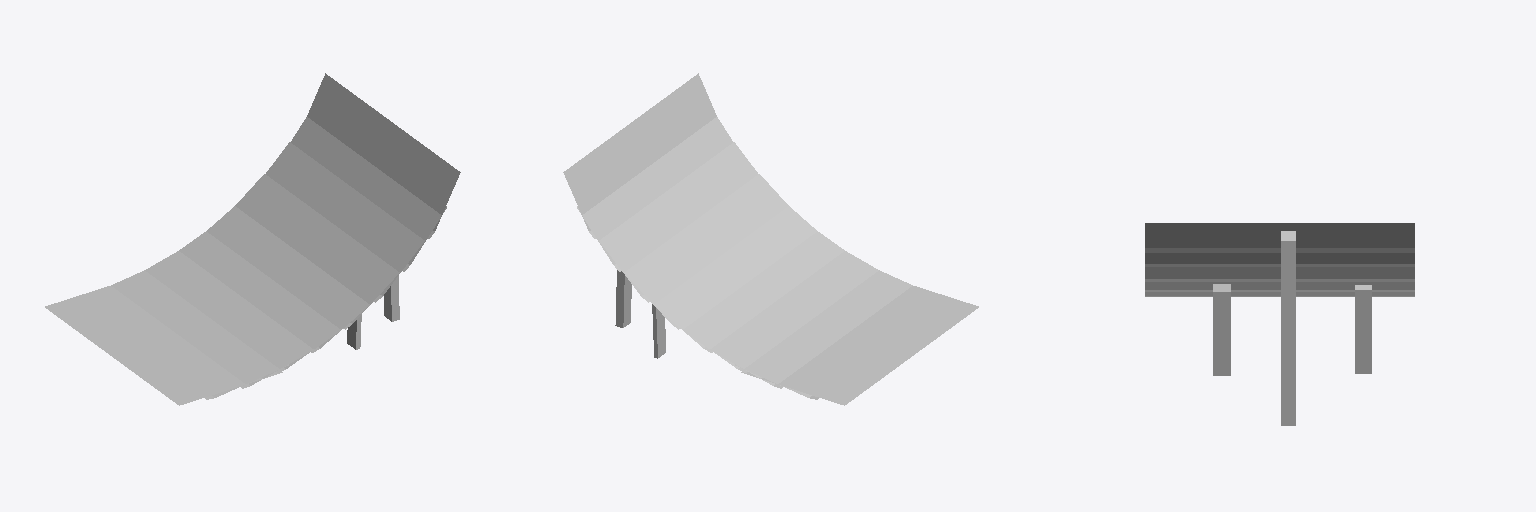
Rendered from Ramp.obj.
3 views of the same model, side by side, from view 1: azimuth 30°, elevation 25°; view 2: azimuth 150°, elevation 25°; view 3: azimuth 270°, elevation 25° (orthographic).
Parts seen in each view (by area): view 1: Cube; view 2: Cube; view 3: Cube.
Part boxes in pixels (bbox=[...]): Cube: bbox=[45, 73, 460, 405]; Cube: bbox=[563, 73, 978, 405]; Cube: bbox=[1145, 223, 1414, 425].
Size of the model in its own units: 1.8 by 1.19 by 1.46.